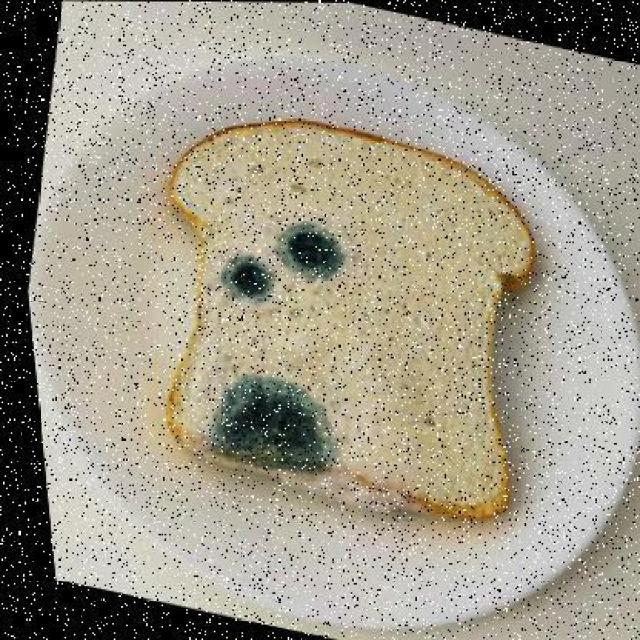mold_bread: (204, 374, 341, 480), (272, 218, 349, 279), (219, 257, 277, 307)
